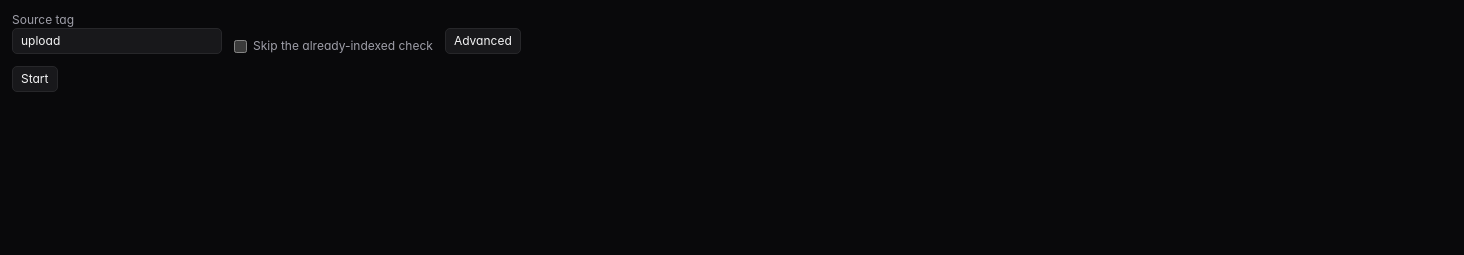
Test: IngestRunPanel › F-59: a duplicate-only re-upload says so instead of showing nothing
The width and height of the screenshot is (1464, 255).
Click the button "Start".
click(35, 79)  # box x1=12 y1=66 x2=58 y2=92
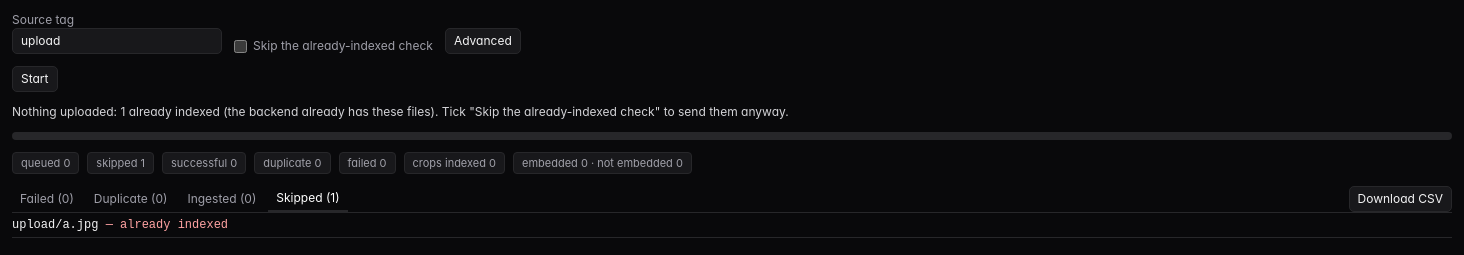
Expected: the text with test id "ingest-all-skipped" shows "1 already indexed", x1=12 y1=104 x2=789 y2=119
Expected: the text "upload/a.jpg" is shown, x1=12 y1=218 x2=106 y2=232
